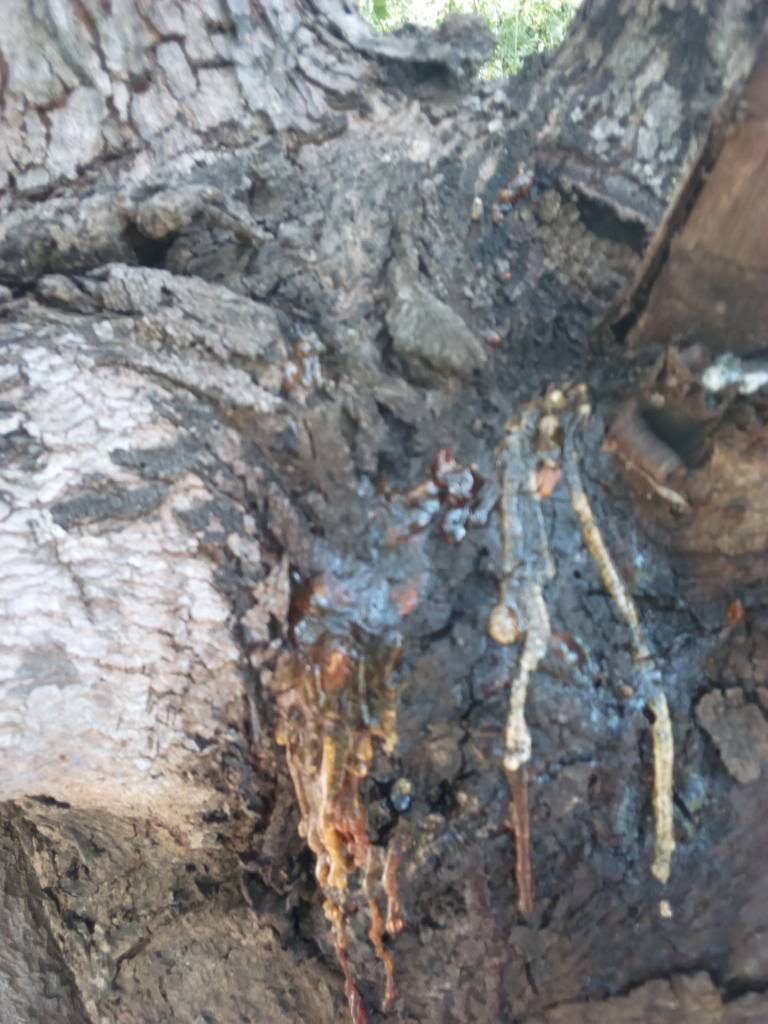Gommose: (433, 407, 715, 897), (246, 536, 430, 1011)
